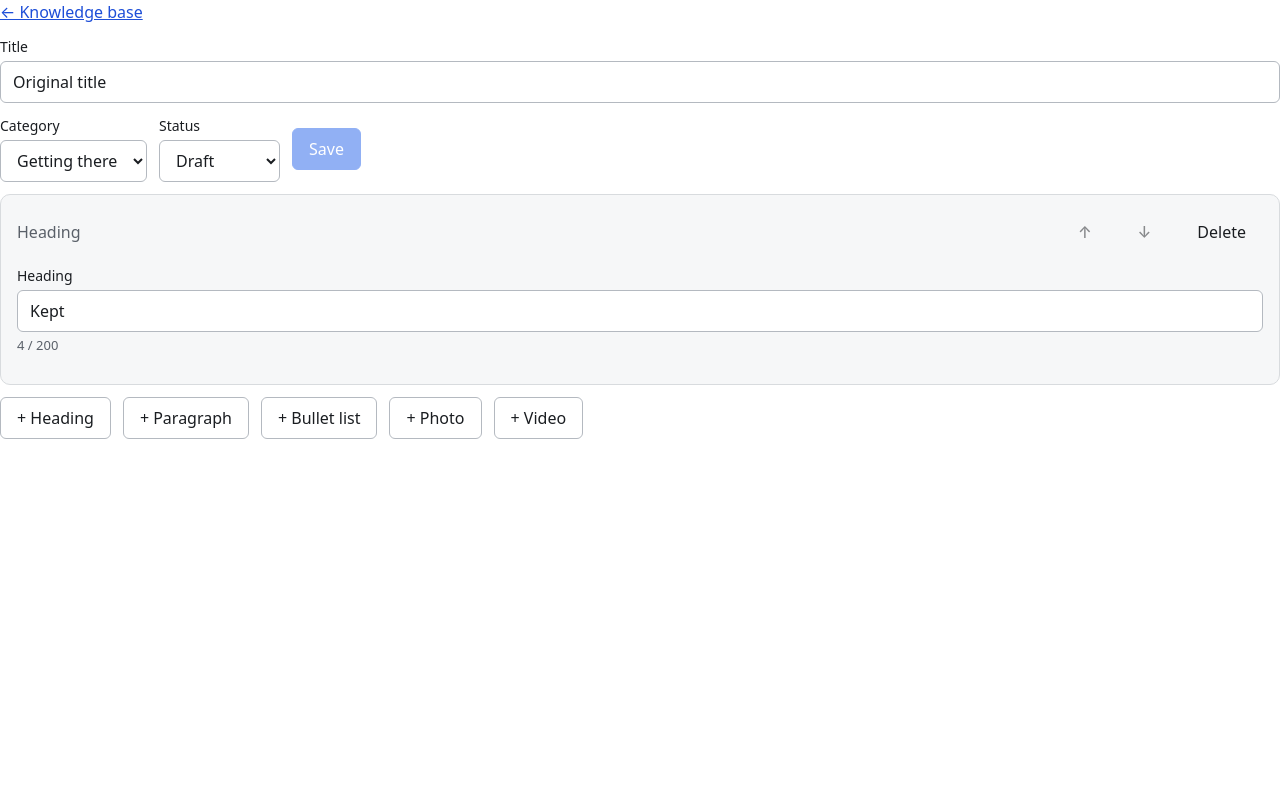
it: ArticleEditorPage — stale article conflict (409) › Copy my changes copies the local blocks JSON to the clipboard, then reloads
The image size is (1280, 800).
Type "!" into the field labelled "Title".
click(640, 82); type("!")  # box [0,61,1279,103]
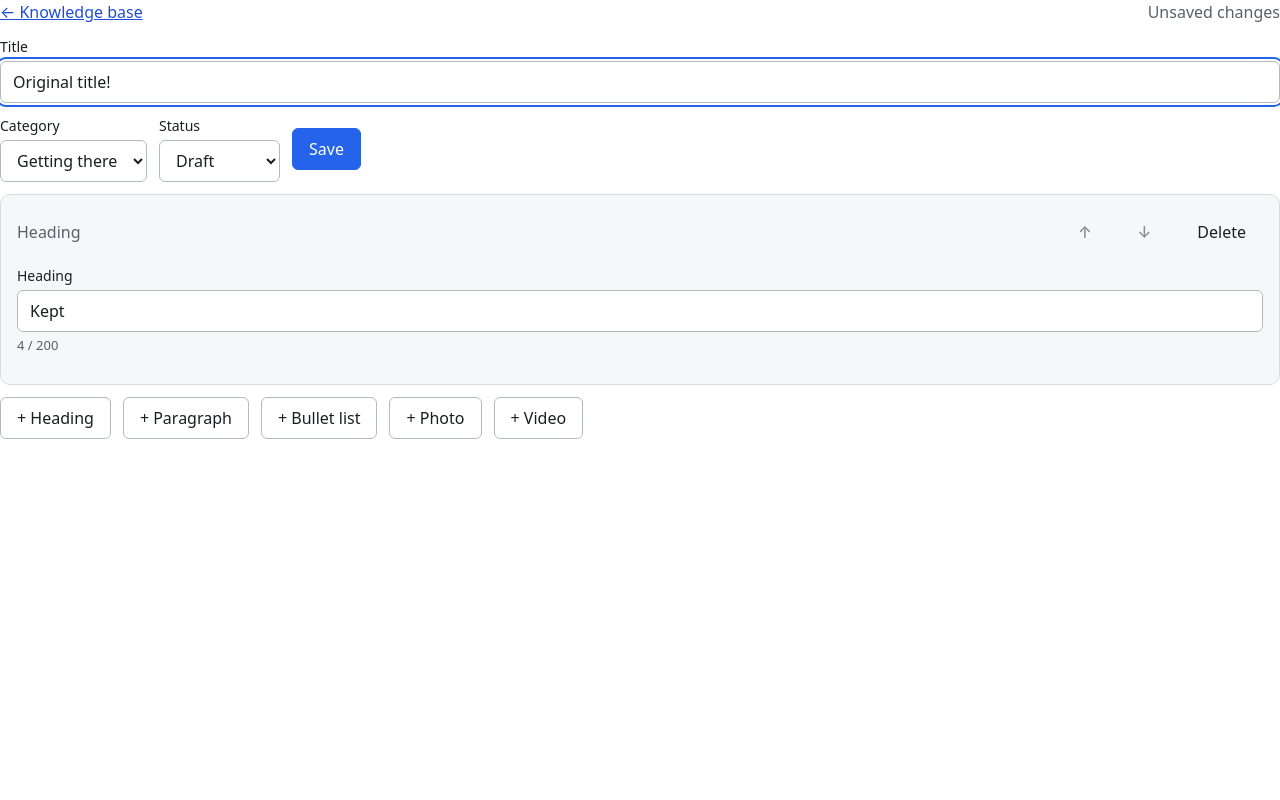
Click the button "Save".
click(326, 148)  # box [292,128,361,170]
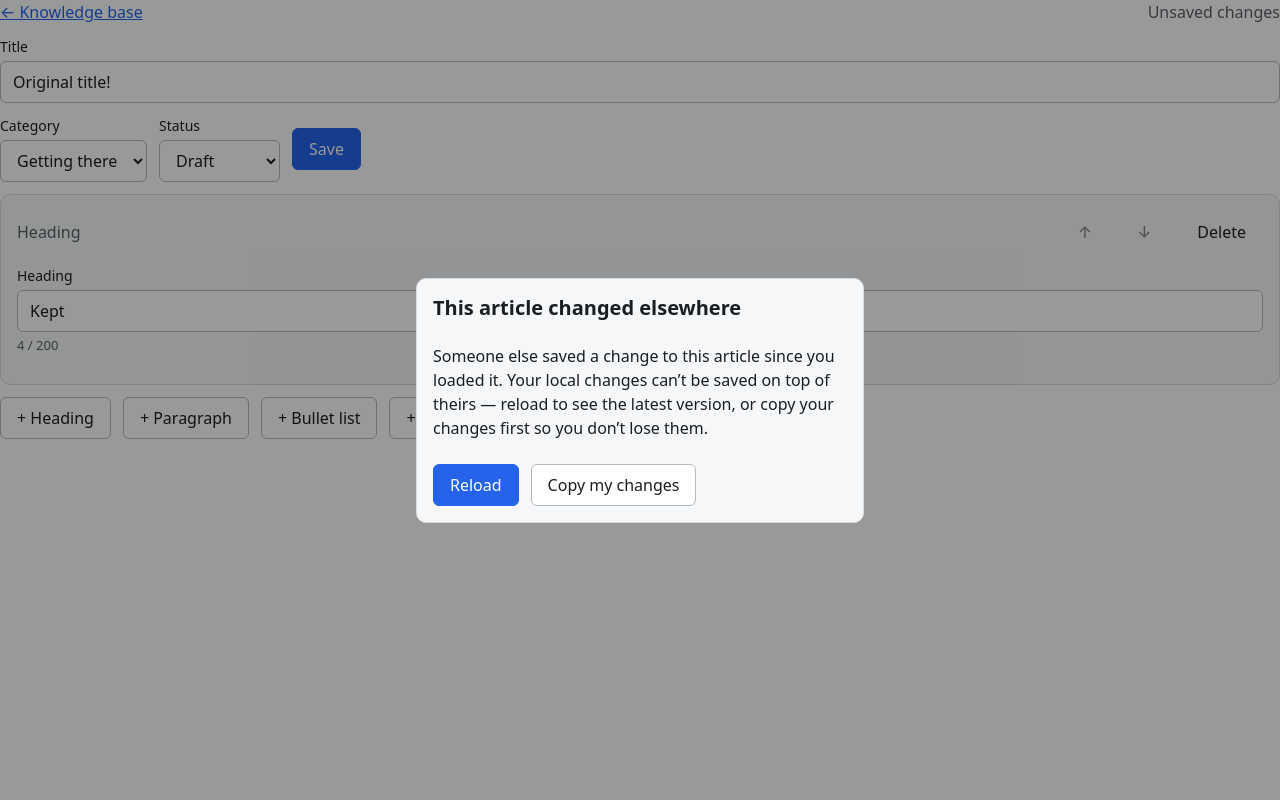
Check: the heading "This article changed elsewhere" is shown, box [433,294,741,320]
Click the button "Copy my changes".
click(614, 484)  # box [531,464,696,506]
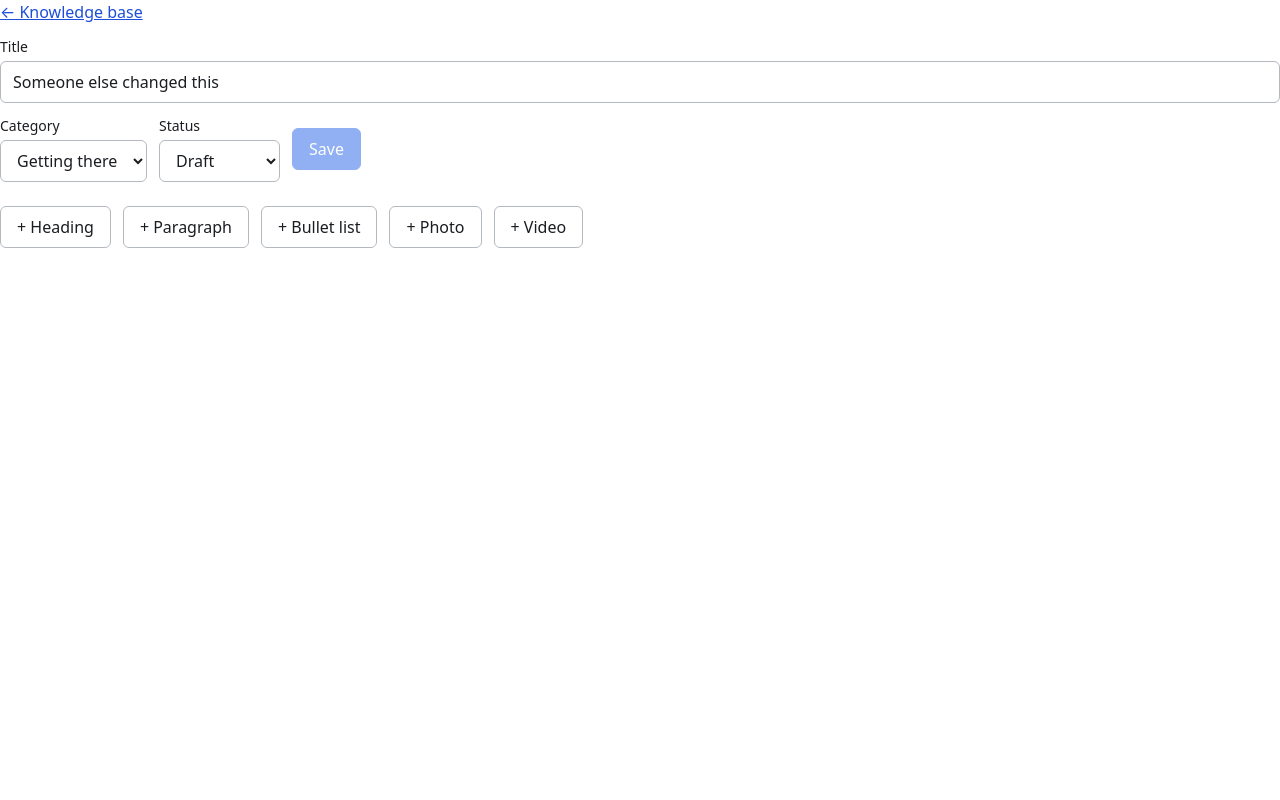
Check: the field labelled "Title" holds "Someone else changed this", box [0,61,1279,103]
